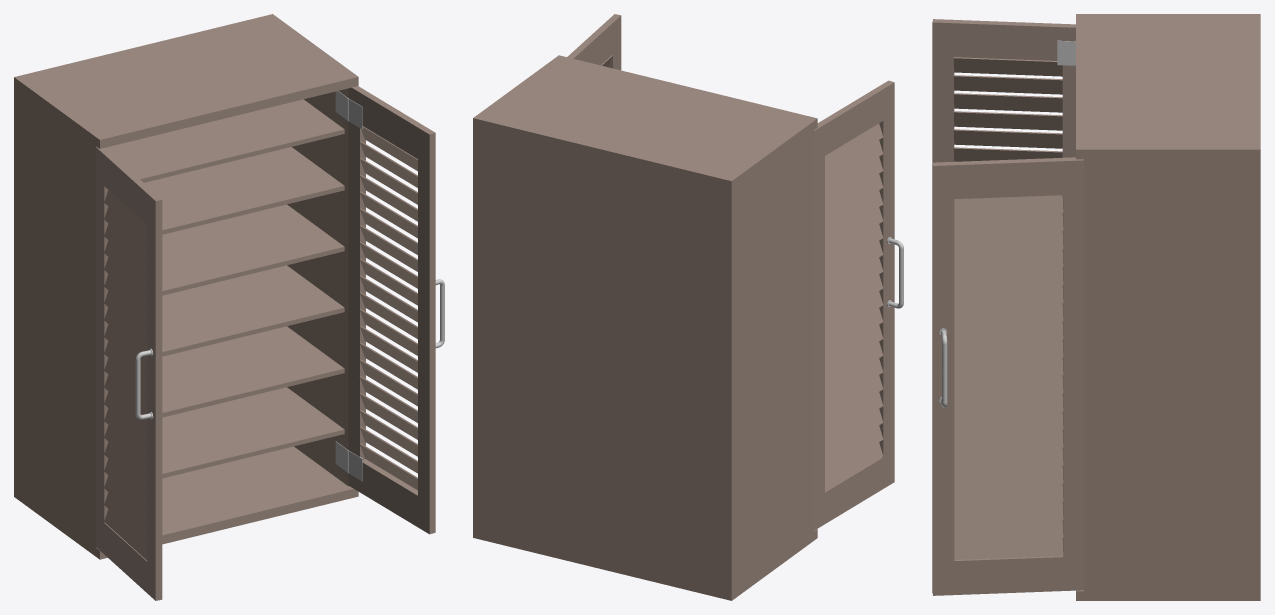
File: 127_靴箱開.glb
3 views of the same model, side by side, from view 1: azimuth 30°, elevation 25°; view 2: azimuth 150°, elevation 25°; view 3: azimuth 270°, elevation 25° (orthographic). The views are drawn at different scales.
Parts seen in each view (by area): view 1: body, 右扉, 左扉; view 2: body, 左扉, 右扉; view 3: body, 右扉, 左扉.
Part boxes in pixels (x1,y1,x2,y2): body: (14, 14, 358, 559); 右扉: (348, 86, 444, 534); 左扉: (96, 147, 162, 600); body: (473, 55, 817, 600); 左扉: (813, 80, 903, 530); 右扉: (567, 14, 621, 70); body: (1076, 14, 1260, 600); 右扉: (932, 157, 1084, 595); 左扉: (932, 19, 1075, 162).
Bounding box in the file's own units: 0.7158 × 0.93 × 0.6129.
